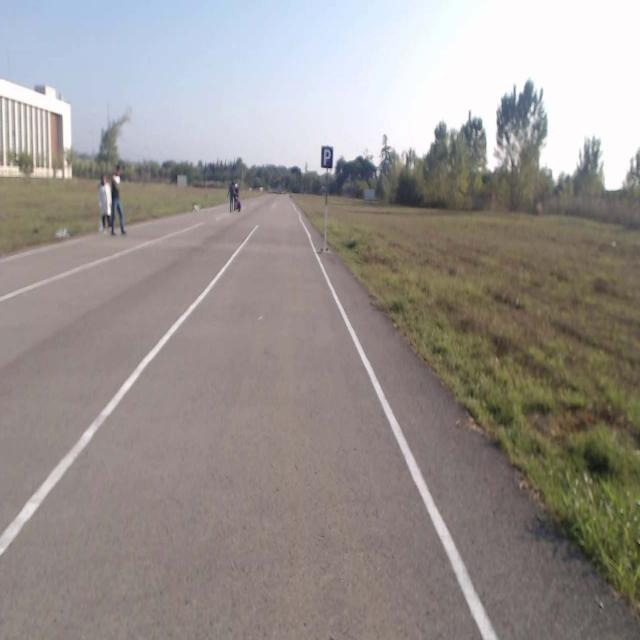park: (322, 146, 332, 168)
